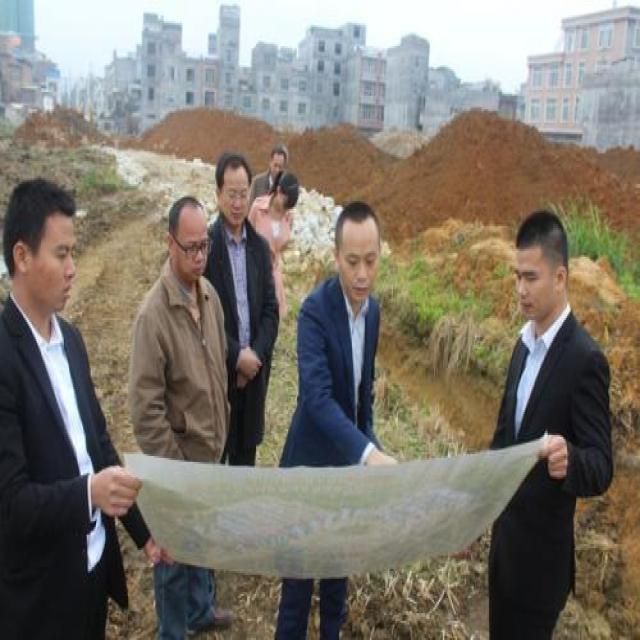no-helmet: (4, 167, 80, 318), (509, 203, 574, 328), (330, 201, 386, 307), (164, 194, 219, 282), (212, 148, 256, 228), (272, 170, 300, 220), (268, 146, 286, 180)
